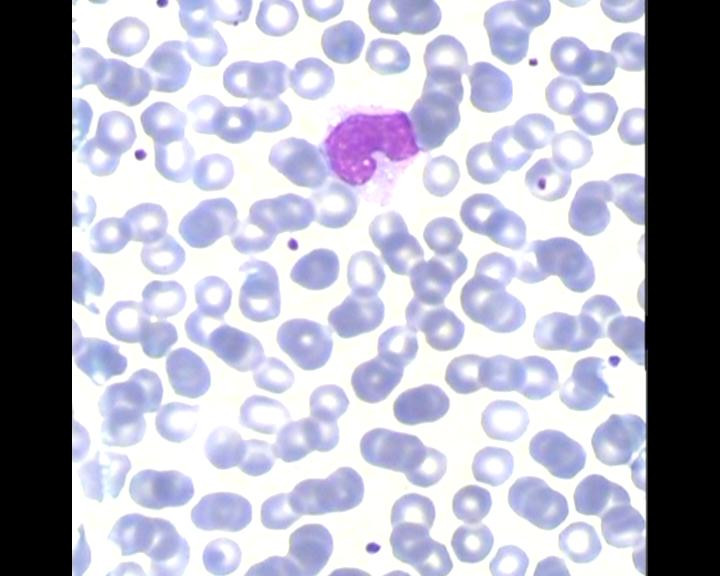mono: (313, 98, 422, 209)
